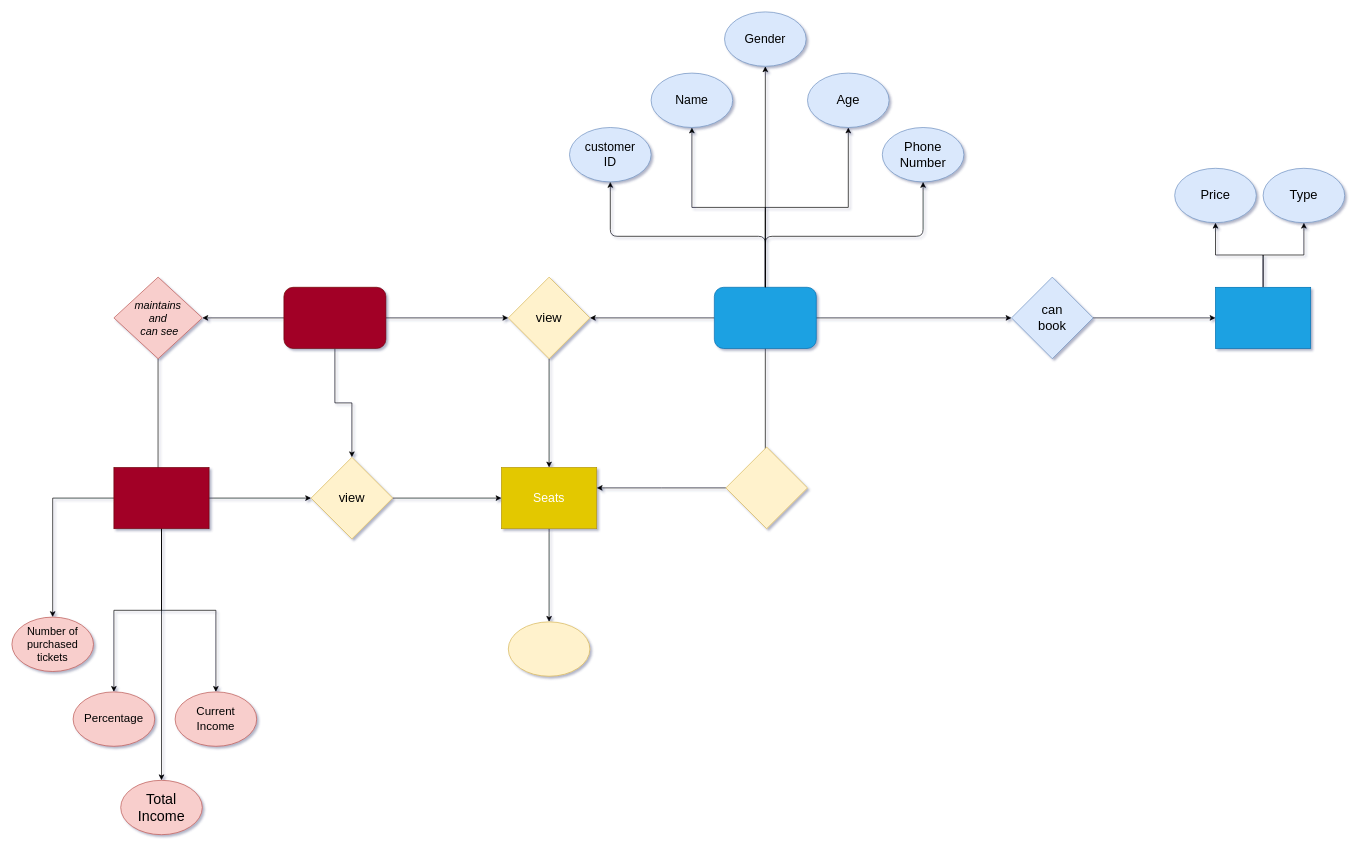
This 1361x851 diagram has some shape labels left out. Each missing label, with the box of its shape:
ADMIN: (283, 287, 386, 348)
check: (725, 446, 808, 529)
CUSTOMER: (714, 287, 816, 348)
Seat Number: (508, 621, 590, 676)
Statistical Information: (113, 467, 209, 529)
Tickets: (1215, 287, 1311, 348)
